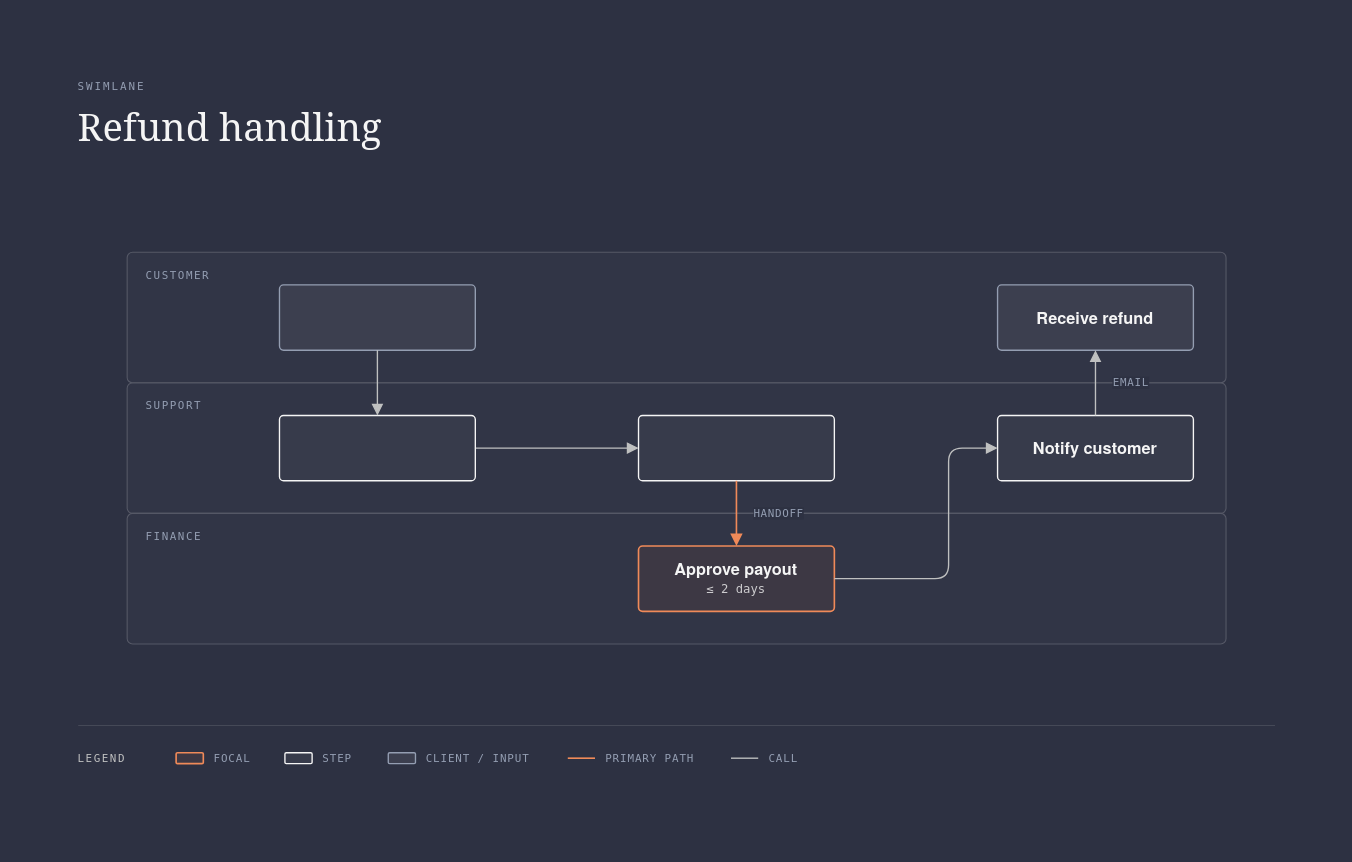
Image size: 1352x862. Some labels were removed from this diagram. The shapes that lost their labels are listed below. From the top down, each one's box as (x1, y1, x2, y2) in pixels, then its label:
(278, 284, 475, 350): Request refund
(278, 414, 475, 481): Triage ticket zendesk
(637, 414, 834, 481): Check order admin console
